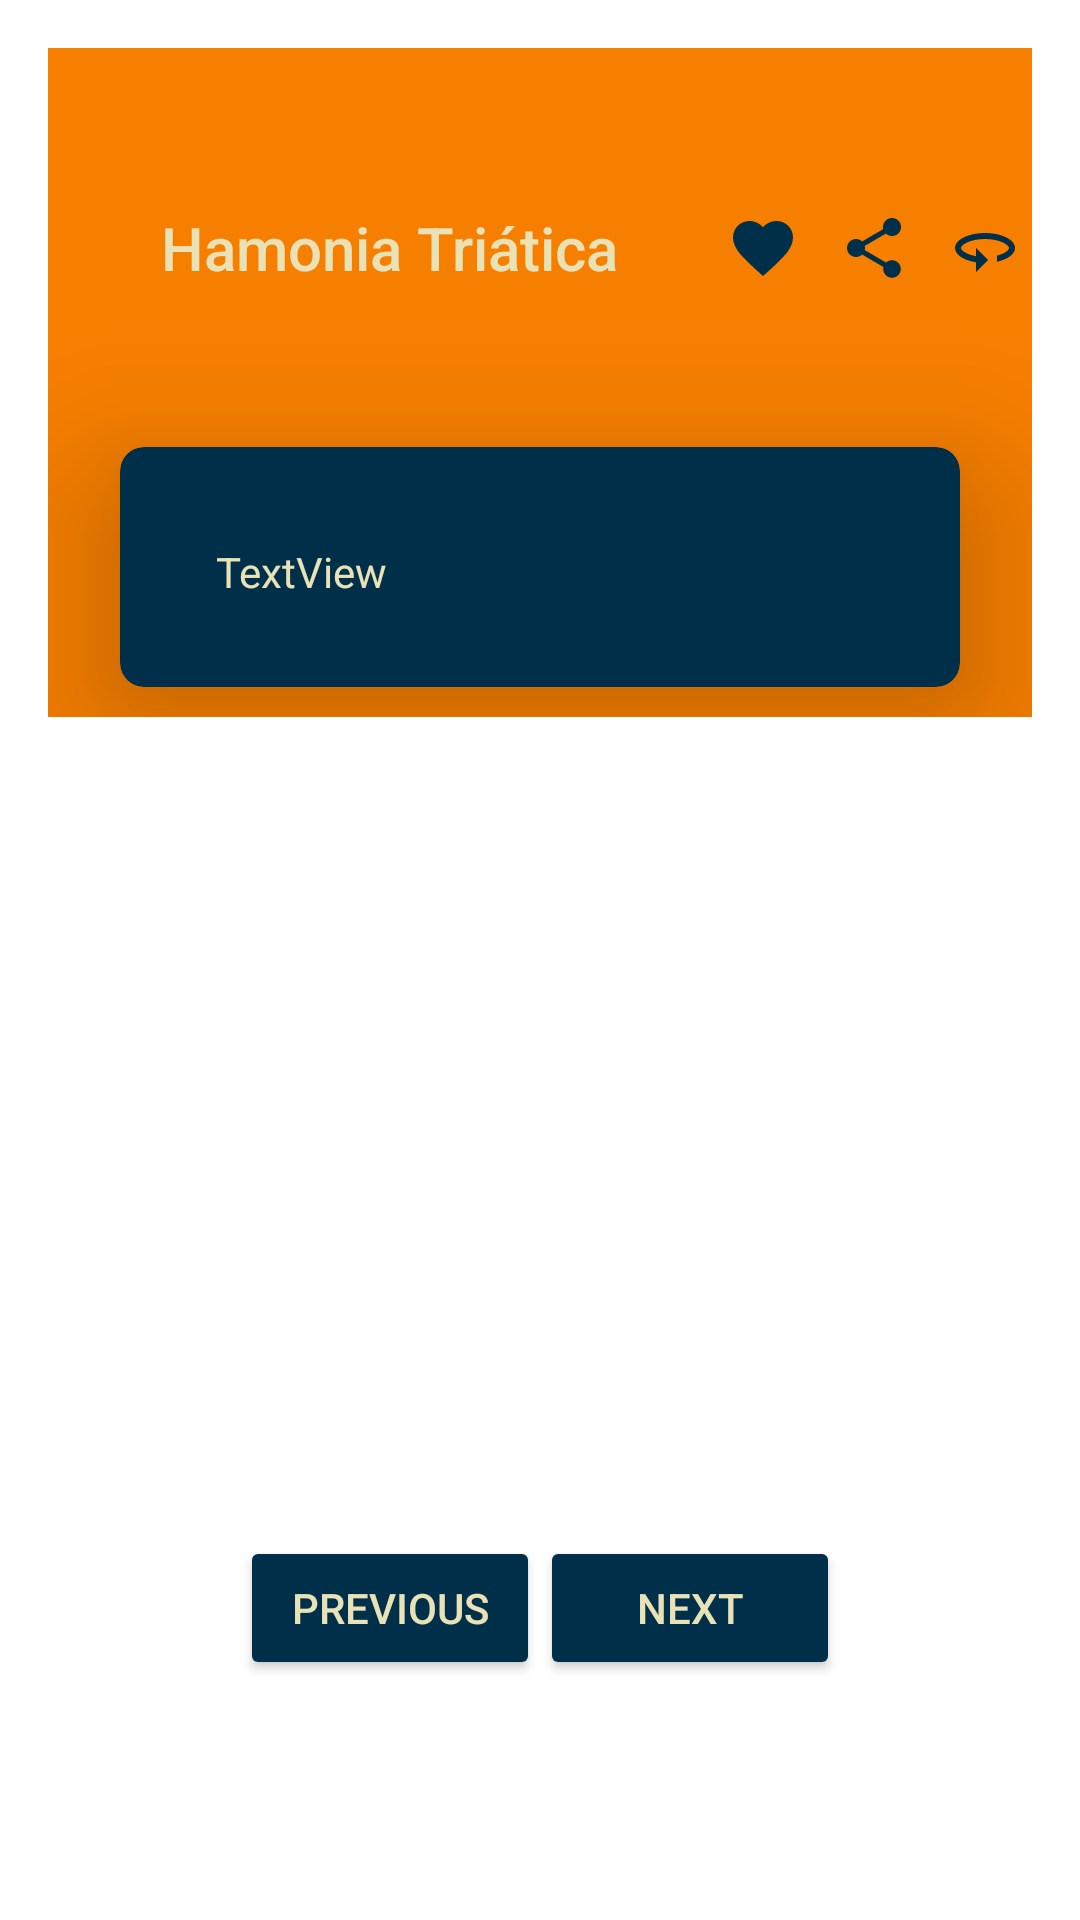

Where icons sit on this 1080px×1920px app screen, as rect(x1, y1, x2, y2):
like: rect(733, 221, 793, 276)
share: rect(847, 218, 901, 278)
